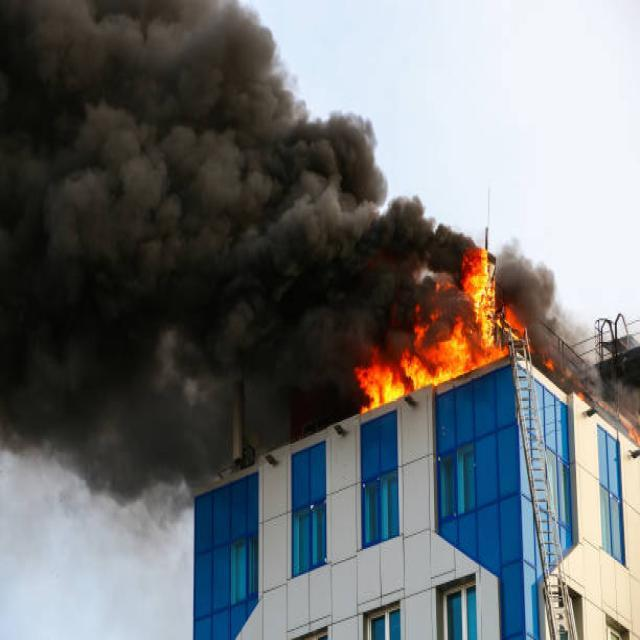Fire: (346, 246, 501, 376)
Smoke: (0, 0, 385, 382)
